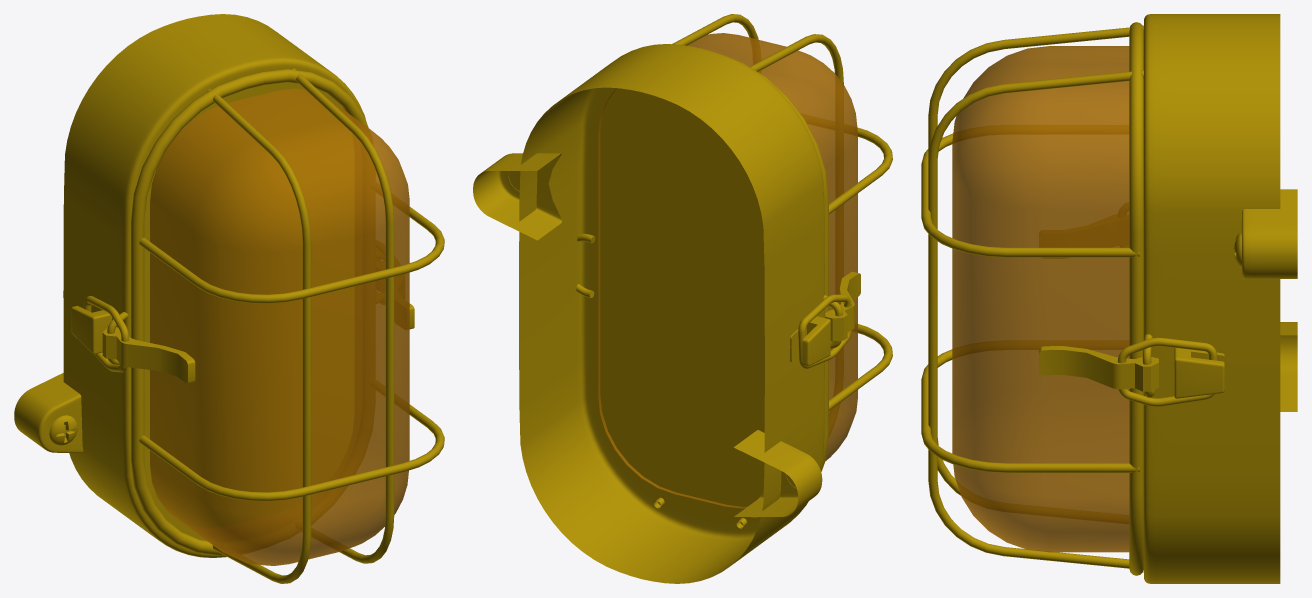
Rendered from industrial_lightwall.glb.
3 views of the same model, side by side, from view 1: azimuth 30°, elevation 25°; view 2: azimuth 150°, elevation 25°; view 3: azimuth 270°, elevation 25° (orthographic). The views are drawn at different scales.
Visible parts, largest first — view 1: Rectangle001; view 2: Rectangle001; view 3: Rectangle001.
Part boxes in pixels (x1,y1,x2,y2): Rectangle001: [14, 14, 444, 583]; Rectangle001: [473, 14, 892, 583]; Rectangle001: [921, 14, 1297, 583].
Size of the model in its own units: 0.1448 by 0.2072 by 0.1321.
